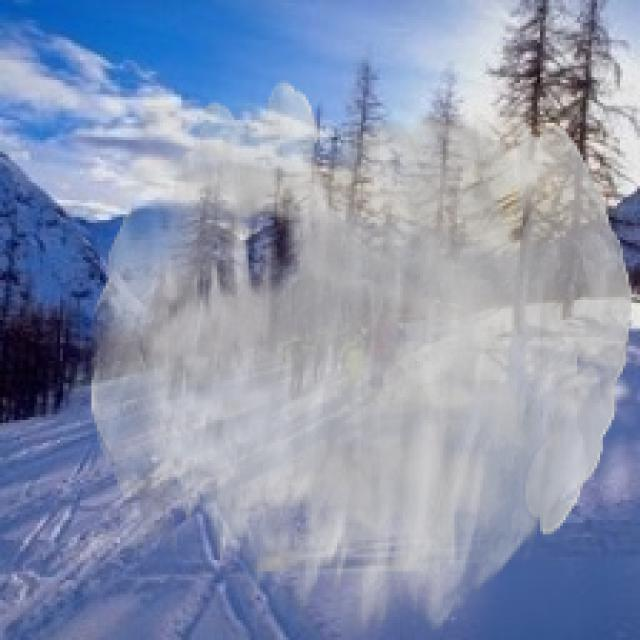Smoke: (89, 80, 632, 637)
